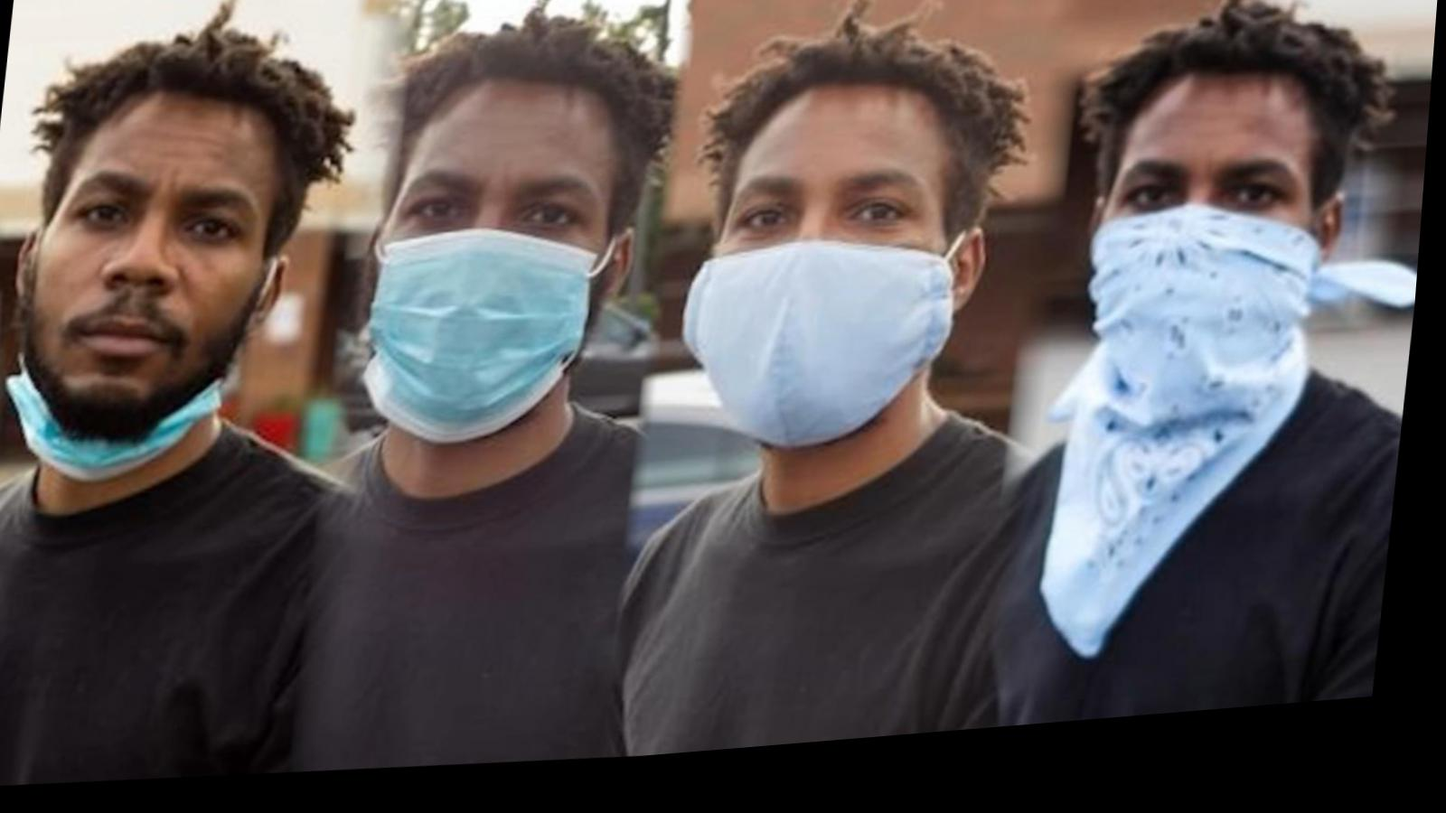OK: (697, 158, 984, 447), (367, 155, 634, 444), (1091, 154, 1335, 406)
WRONG: (1, 153, 292, 487)
